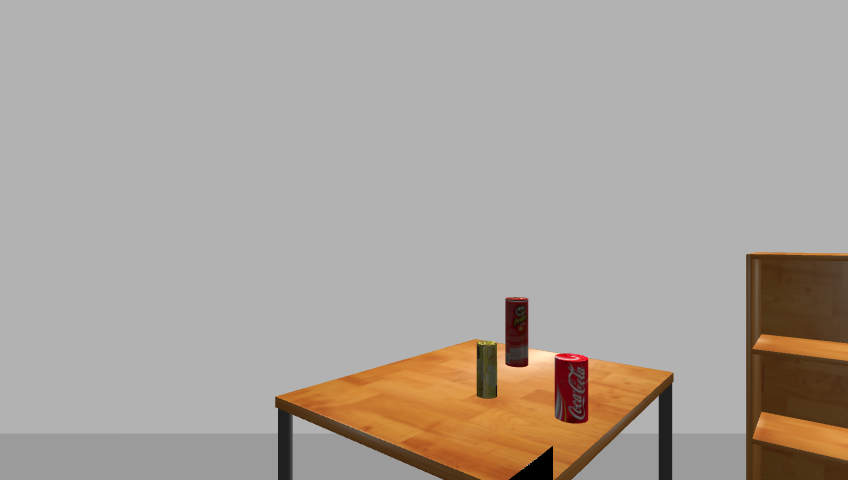aruco marker: (500, 446, 557, 480)
biscuits pack: (475, 339, 499, 400)
bookshelf: (740, 250, 848, 480)
coke can: (553, 353, 591, 424)
dinner table: (268, 339, 684, 480)
pringles can: (503, 296, 531, 369)
